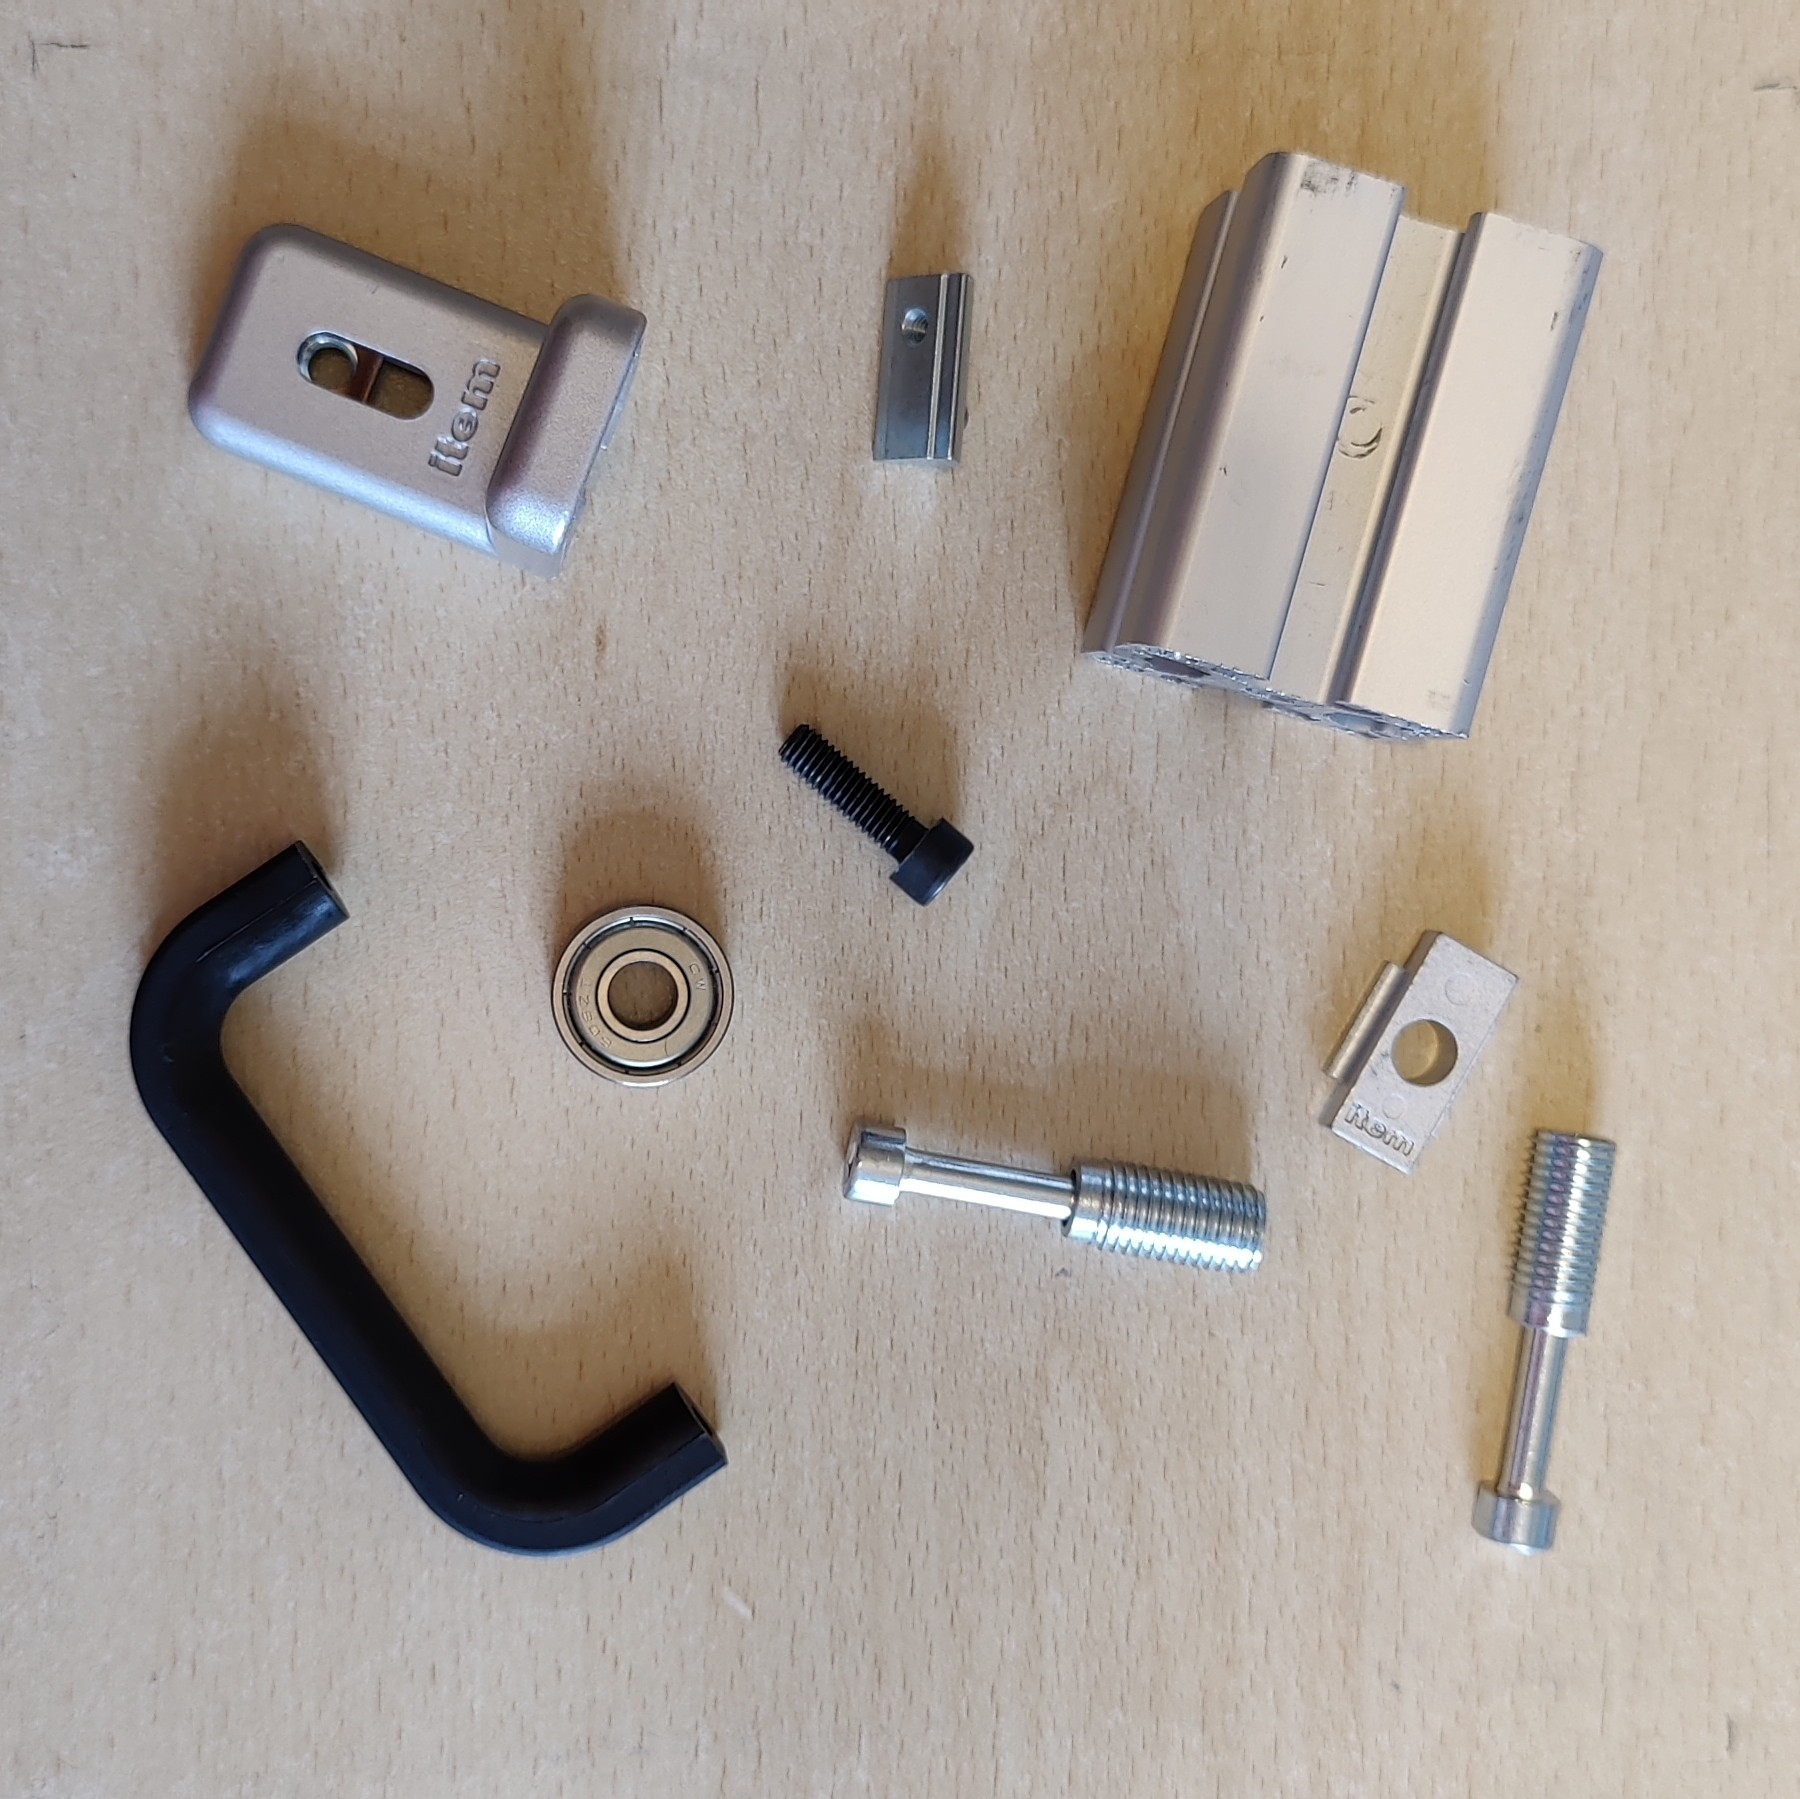Aluminium Extension: (1079, 150, 1604, 750)
Ball Bearing: (548, 899, 736, 1091)
Multiwinkel: (184, 219, 651, 580)
Pull Handle: (125, 834, 731, 1558)
Shoulder Socket Head Cap Screw: (838, 1117, 1270, 1277), (1471, 1124, 1620, 1554)
Socket Head Cap Screw: (776, 722, 975, 908)
T Nut Square: (1313, 926, 1522, 1176)
T Spring Nut: (870, 269, 977, 470)
